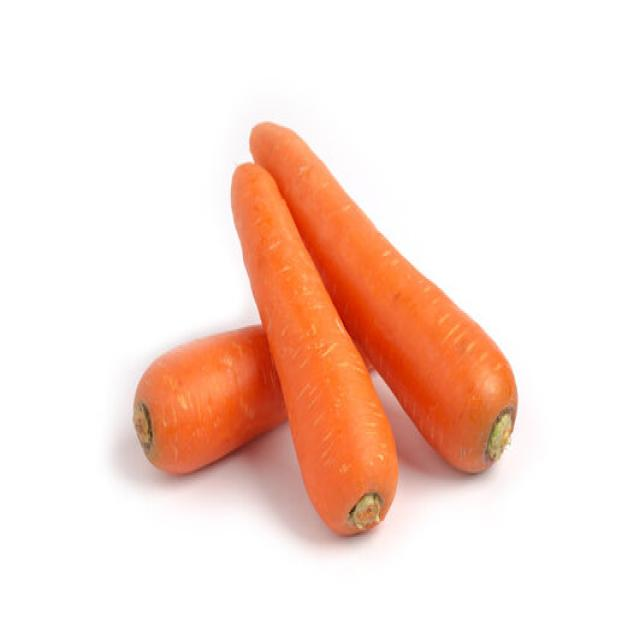Carrot: (250, 124, 519, 479), (229, 160, 398, 537), (131, 322, 288, 476)
